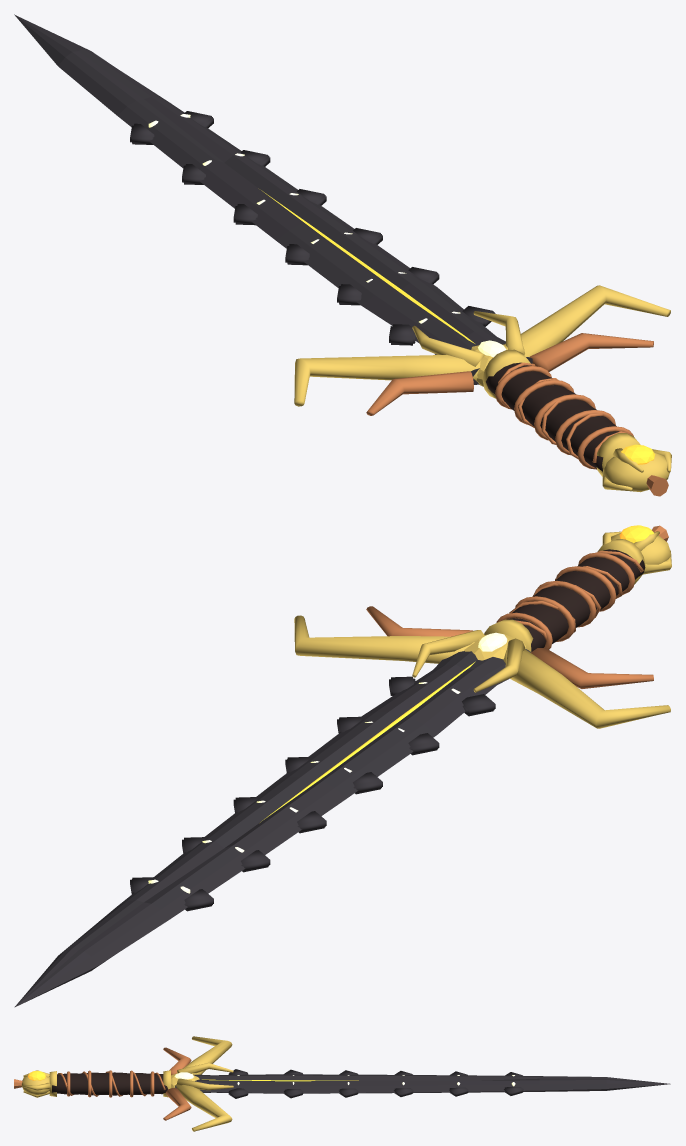
File: SWORD_DRAGON.glb
3 views of the same model, one above another, from view 1: azimuth 30°, elevation 25°; view 2: azimuth 150°, elevation 25°; view 3: azimuth 270°, elevation 25° (orthographic). The views are drawn at different scales.
Visible parts, largest first — view 1: DragonBlade, Grip, DragonWing_-1, DragonWing_1, DragonWingLower_-1, DragonWingLower_1, PommelDisc, GripWireWrap, DragonHorn_-1, DragonHorn_1, GripFerrule_0, LavaCore; view 2: DragonBlade, Grip, DragonWing_-1, DragonWing_1, DragonWingLower_-1, DragonHorn_1, DragonWingLower_1, GripWireWrap, DragonHorn_-1, LavaCore, GripFerrule_0; view 3: DragonBlade, Grip, DragonWing_1, DragonWing_-1, DragonWingLower_1, DragonHorn_1, DragonHorn_-1, PommelDisc, DragonWingLower_-1, GripWireWrap, LavaCore.
Boxes of the visible parts, box(x1,y1,x2,y2) form: DragonBlade: box(14, 14, 532, 384); Grip: box(486, 362, 618, 471); DragonWing_-1: box(294, 354, 480, 406); DragonWing_1: box(504, 285, 670, 357); DragonWingLower_-1: box(366, 371, 473, 415); DragonWingLower_1: box(530, 333, 653, 371); PommelDisc: box(603, 452, 669, 492); GripWireWrap: box(498, 362, 632, 462); DragonHorn_-1: box(412, 325, 484, 366); DragonHorn_1: box(473, 311, 524, 354); GripFerrule_0: box(482, 349, 530, 398); LavaCore: box(261, 190, 474, 343); DragonBlade: box(14, 648, 530, 1007); Grip: box(507, 549, 645, 651); DragonWing_-1: box(503, 649, 670, 728); DragonWing_1: box(294, 615, 474, 663); DragonWingLower_-1: box(531, 648, 653, 688); DragonHorn_1: box(412, 630, 484, 677); DragonWingLower_1: box(366, 606, 473, 636); GripWireWrap: box(509, 550, 643, 640); DragonHorn_-1: box(473, 638, 524, 692); LavaCore: box(260, 661, 475, 822); GripFerrule_0: box(484, 619, 533, 651); DragonBlade: box(175, 1074, 670, 1093); Grip: box(52, 1072, 167, 1095); DragonWing_1: box(175, 1084, 232, 1131); DragonWing_-1: box(176, 1036, 232, 1074); DragonWingLower_1: box(163, 1088, 191, 1120); DragonHorn_1: box(177, 1078, 233, 1090); DragonHorn_-1: box(177, 1063, 233, 1073); PommelDisc: box(21, 1076, 49, 1094); DragonWingLower_-1: box(163, 1047, 191, 1074); GripWireWrap: box(58, 1071, 165, 1096); LavaCore: box(202, 1079, 358, 1081).
Size of the model in its own units: 0.2979 by 0.037 by 0.885.
